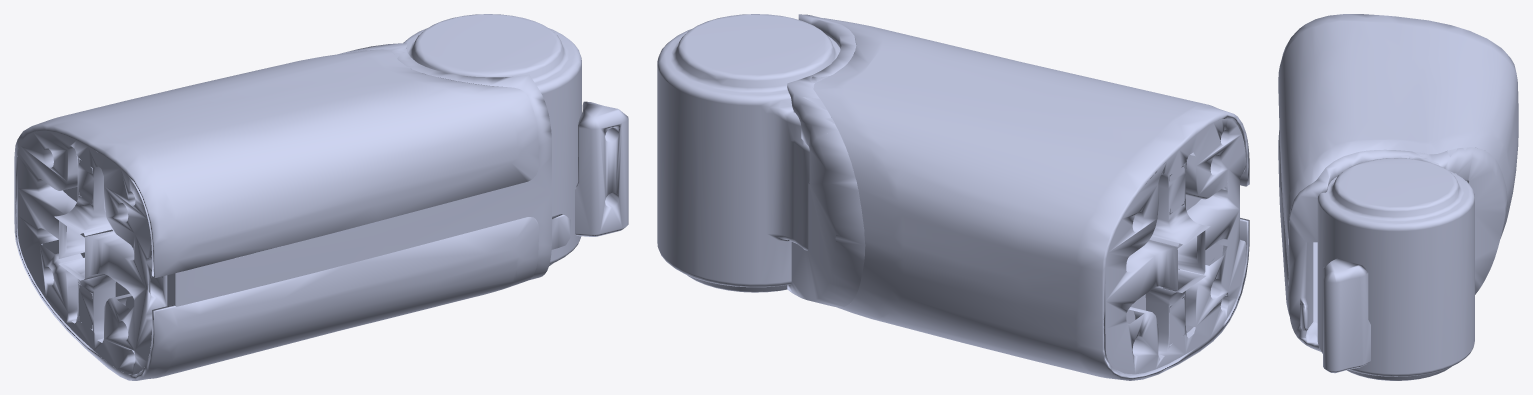
Rendered from left_PP_visual_cad1ee.glb.
3 renders of one model, left to right at view 1: azimuth 30°, elevation 25°; view 2: azimuth 150°, elevation 25°; view 3: azimuth 270°, elevation 25°, orthographic. The views are drawn at different scales.
Parts seen in each view (by area): view 1: left_PP_visual_0; view 2: left_PP_visual_0; view 3: left_PP_visual_0.
Boxes of the visible parts, x1=… form: left_PP_visual_0: x1=14, y1=14, x2=628, y2=380; left_PP_visual_0: x1=657, y1=14, x2=1249, y2=380; left_PP_visual_0: x1=1278, y1=14, x2=1518, y2=380.
Bounding box in the file's own units: 0.0463 × 0.0187 × 0.022.
